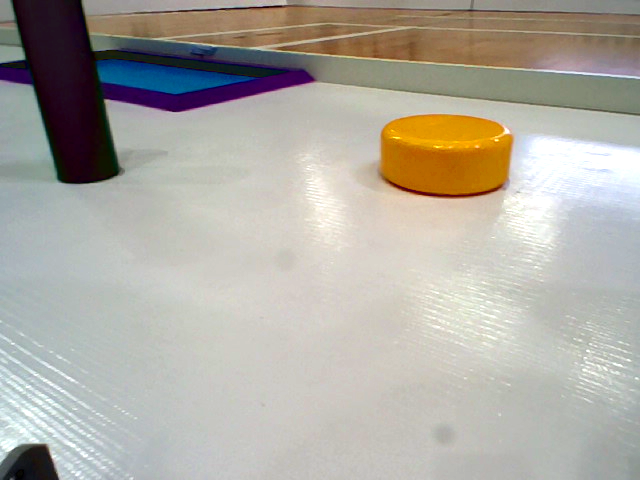kuang: (1, 41, 324, 117)
yellow: (374, 107, 510, 198)
zhuzi: (13, 1, 123, 186)
